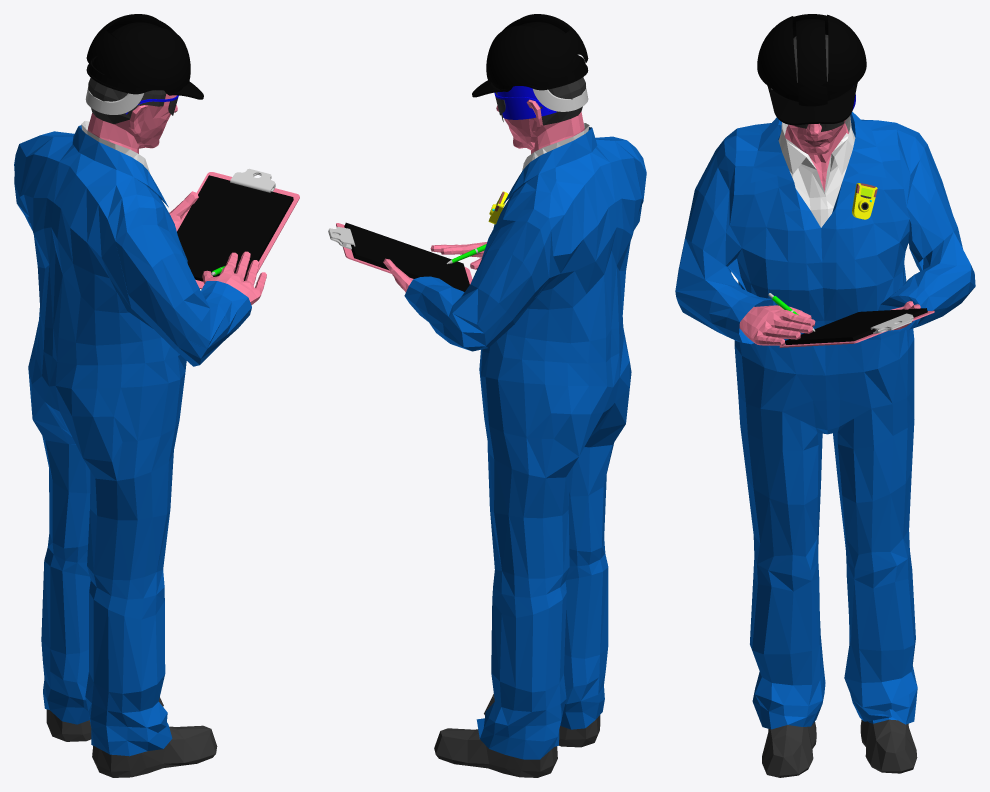
The model's file is assembly-44.glb.
3 views of the same model, side by side, from view 1: azimuth 30°, elevation 25°; view 2: azimuth 150°, elevation 25°; view 3: azimuth 270°, elevation 25° (orthographic). The views are drawn at different scales.
Visible parts, largest first — view 1: Ernie 3D PPE Clipboard 2014-3; view 2: Ernie 3D PPE Clipboard 2014-3; view 3: Ernie 3D PPE Clipboard 2014-3.
Part boxes in pixels (x1,y1,x2,y2): Ernie 3D PPE Clipboard 2014-3: (14,14,299,777); Ernie 3D PPE Clipboard 2014-3: (328,14,646,777); Ernie 3D PPE Clipboard 2014-3: (675,14,975,777).
Size of the model in its own units: 0.7038 by 1.84 by 0.6847.
